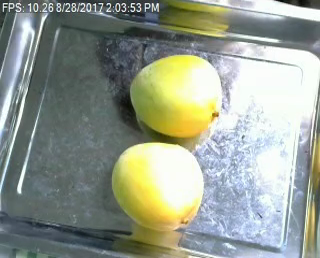Mango: (125, 50, 228, 142), (104, 139, 203, 232)
